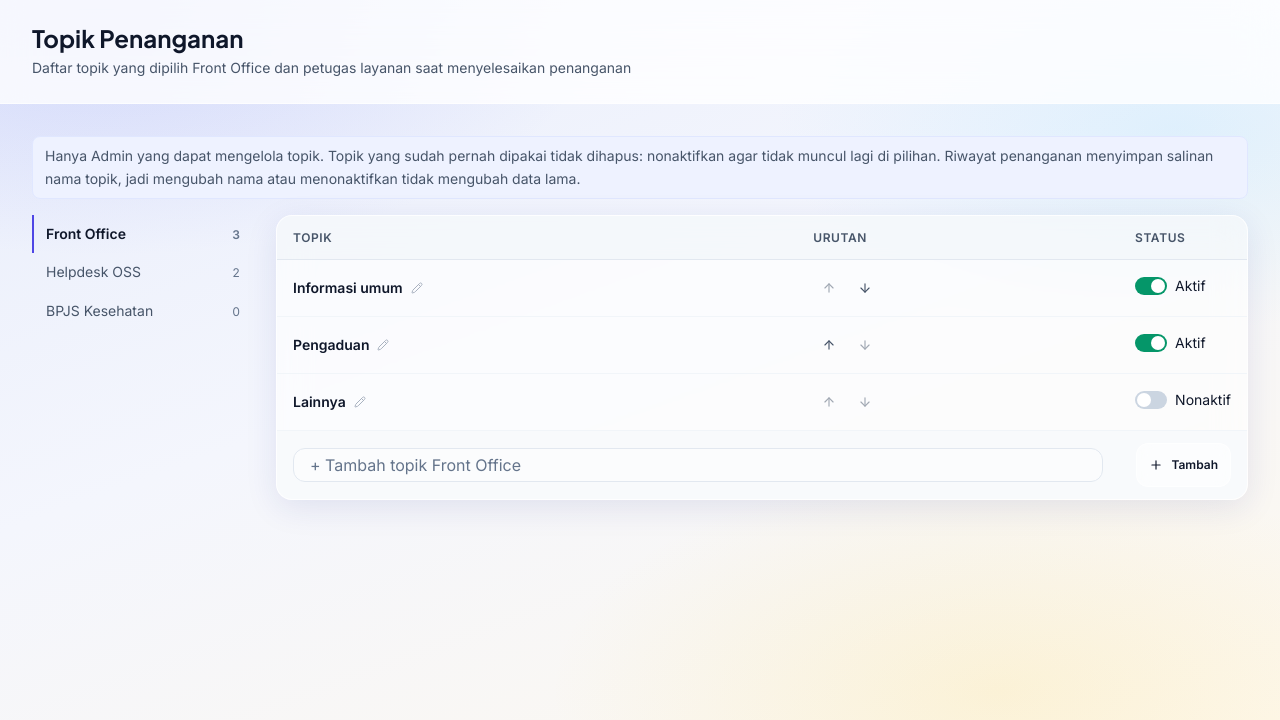
Test case: Kelola Topik: tambah lewat baris terakhir › galat DB 23505 dijelaskan di bawah isian (role=alert); isian tidak dikosongkan
Expected: the text "Informasi umum" is shown, [293, 277, 403, 299]
Type "Topik baru" into the field named "Topik baru".
click(698, 465); type("Topik baru")  # box [293, 448, 1103, 482]
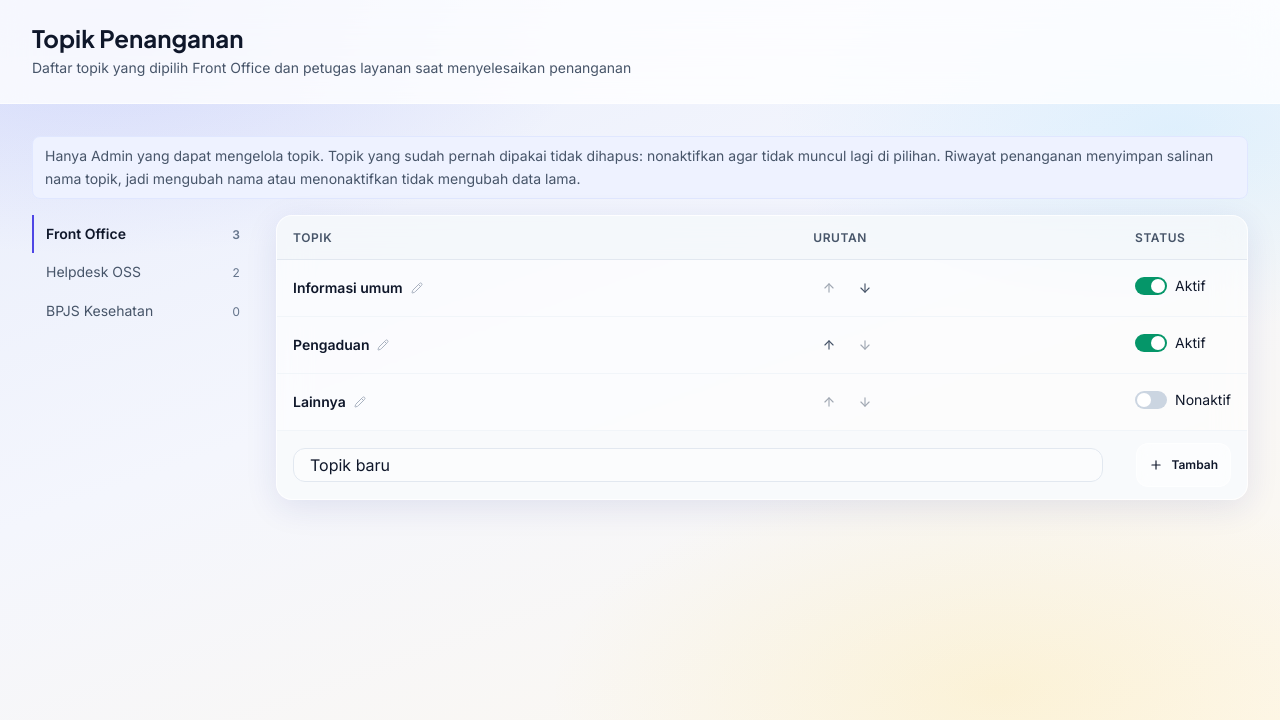
Click the button with aria-label "Tambah topik Front Office".
click(1184, 465)  # box [1136, 443, 1231, 487]
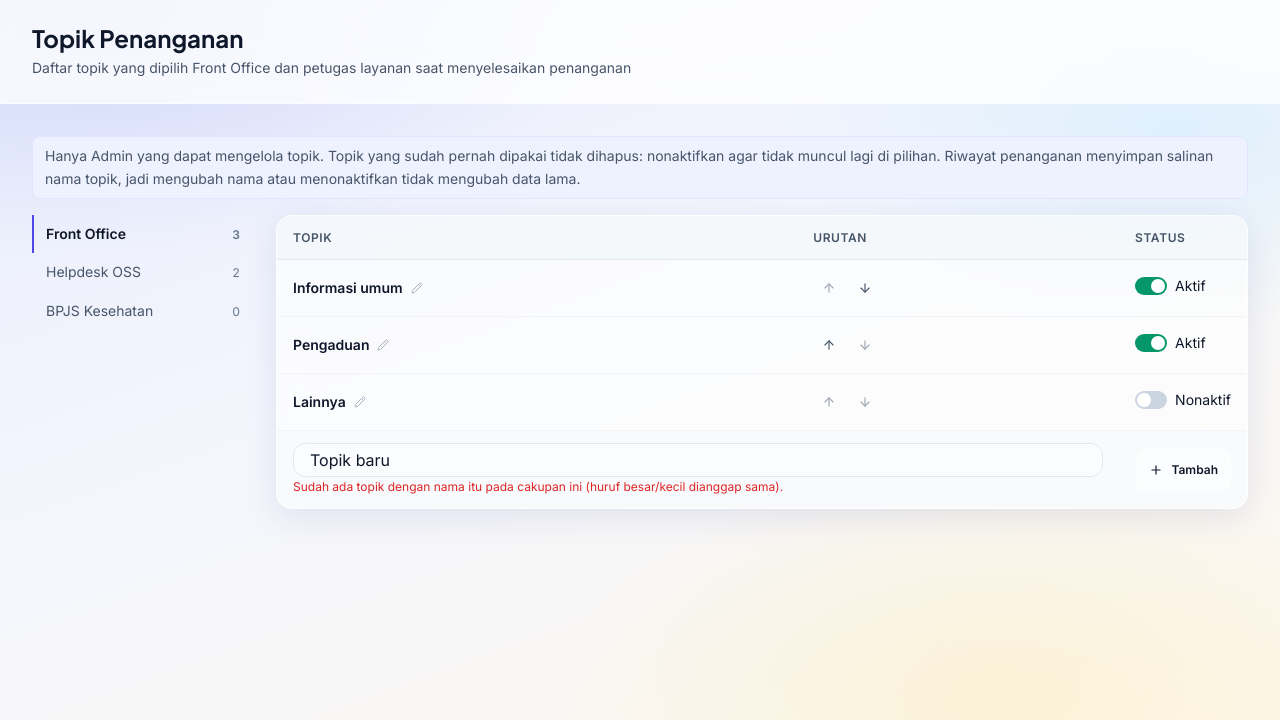
Expected: the message shows "Sudah ada topik dengan nama itu pada cakupan ini (huruf besar/kecil dianggap sama)", [293, 479, 783, 494]
